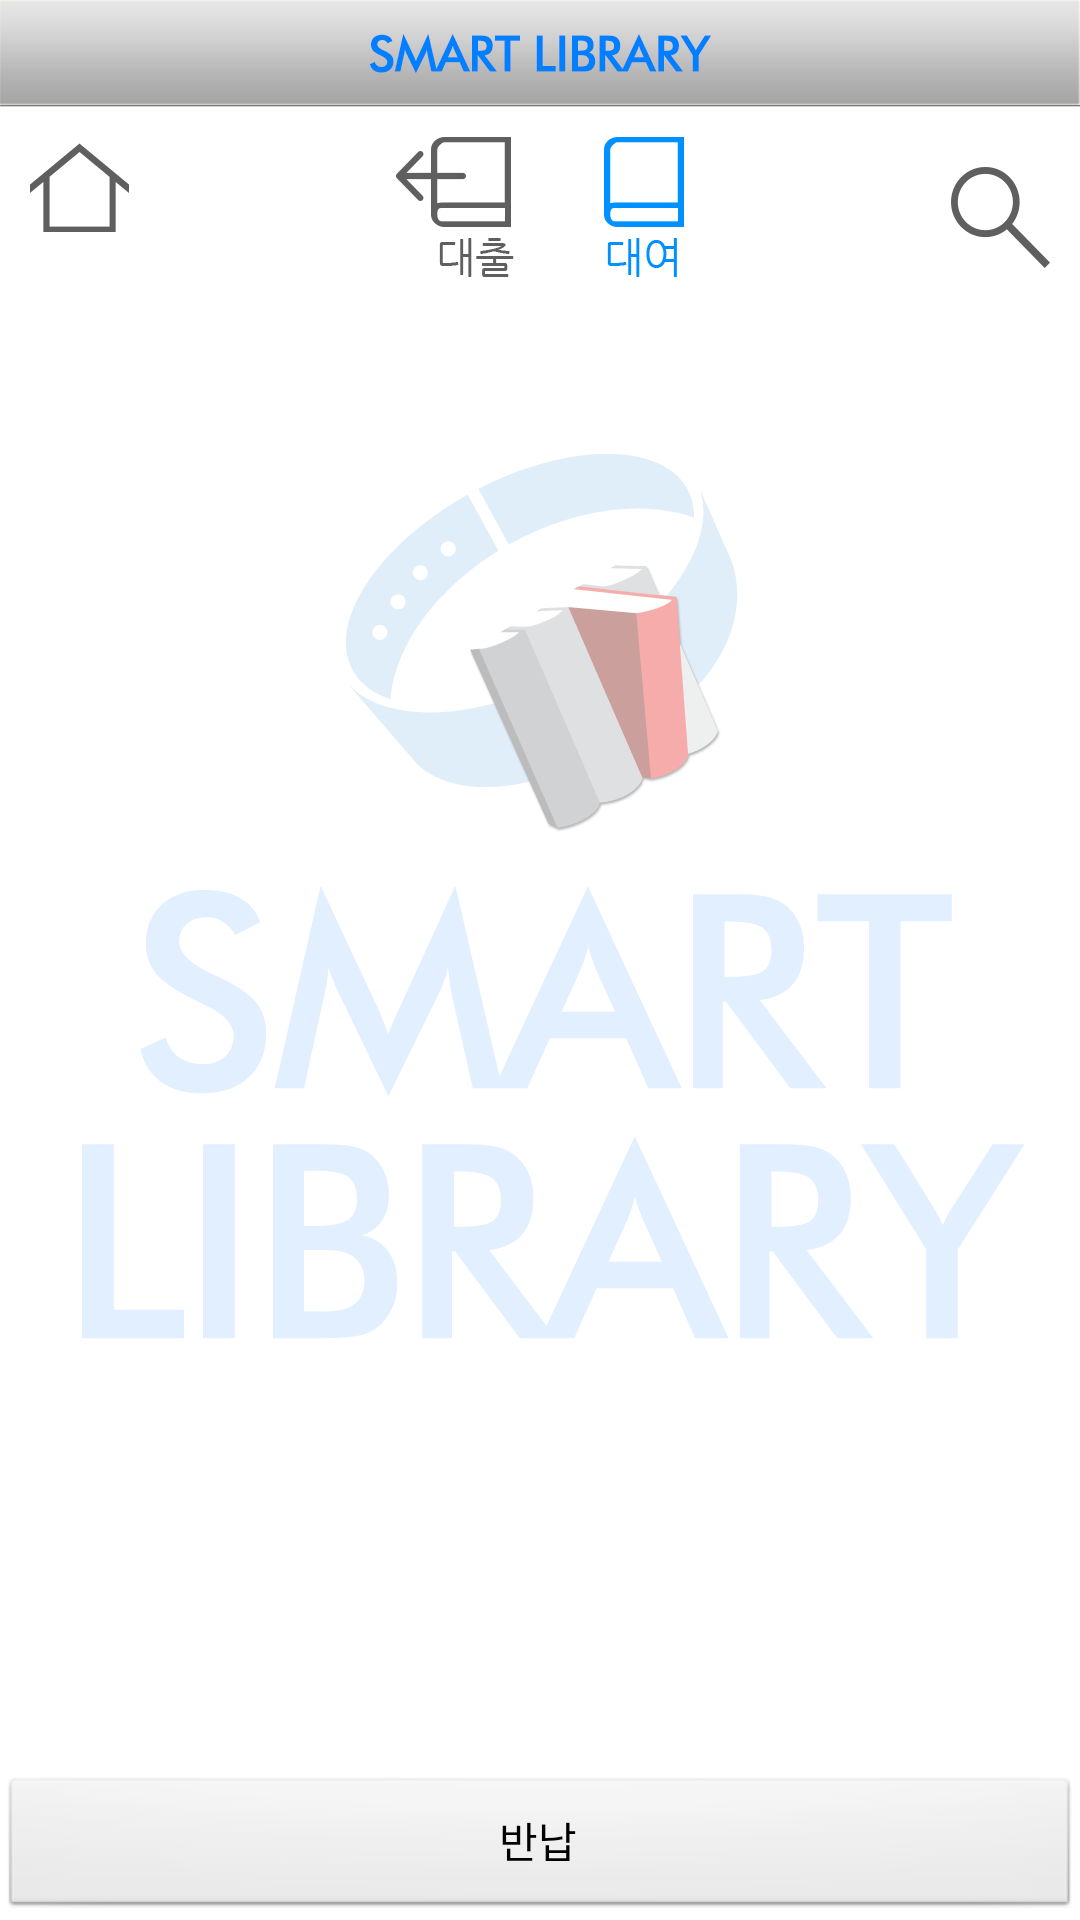

Icons on this 1080 × 1920 Android screen, each with the point to tap as [x,y]:
mainglass: [1000,217]
mainhome: [79,187]
